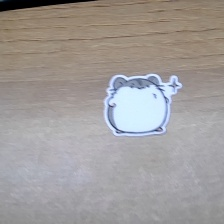mouse: (103, 67, 184, 139)
